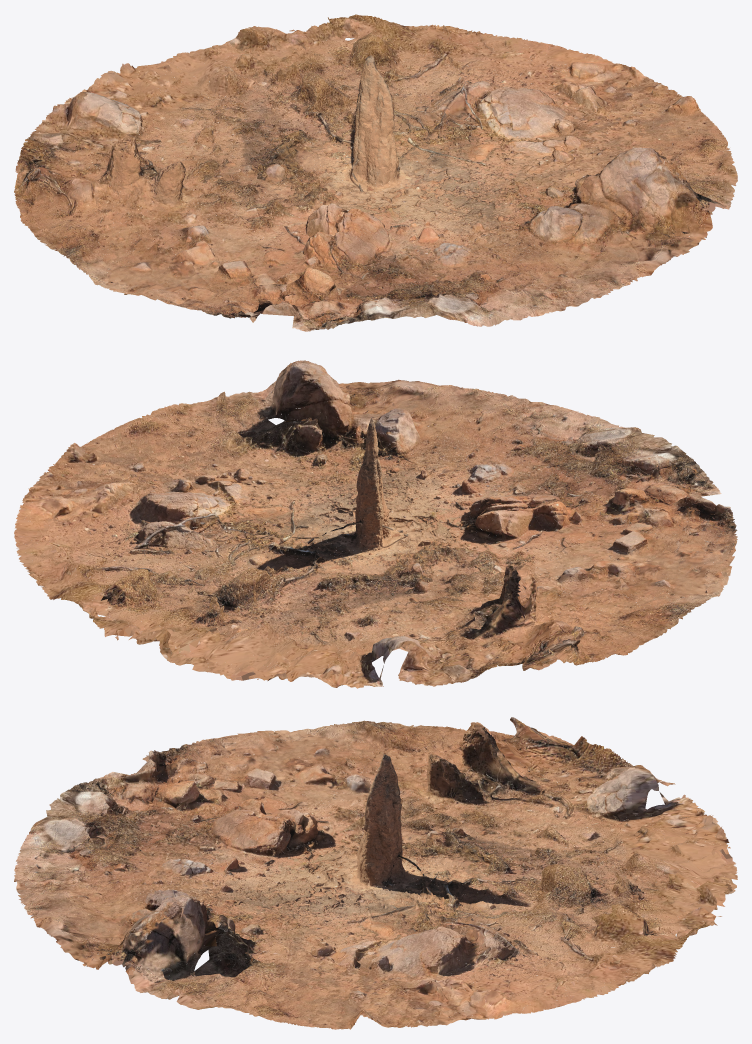
The model's file is mounds.glb.
The picture shows the model from 3 angles, top to bottom: view 1: azimuth 30°, elevation 25°; view 2: azimuth 150°, elevation 25°; view 3: azimuth 270°, elevation 25°; orthographic projection.
Parts seen in each view (by area): view 1: Stereo textured mesh_Material6_0, Stereo textured mesh_Material2_0, Stereo textured mesh_Material0_0, Stereo textured mesh_Material7_0, Stereo textured mesh_Material1_0, Stereo textured mesh_Material3_0, Stereo textured mesh_Material4_0, Stereo textured mesh_Material5_0; view 2: Stereo textured mesh_Material2_0, Stereo textured mesh_Material6_0, Stereo textured mesh_Material0_0, Stereo textured mesh_Material7_0, Stereo textured mesh_Material1_0, Stereo textured mesh_Material4_0, Stereo textured mesh_Material3_0, Stereo textured mesh_Material5_0; view 3: Stereo textured mesh_Material2_0, Stereo textured mesh_Material6_0, Stereo textured mesh_Material0_0, Stereo textured mesh_Material1_0, Stereo textured mesh_Material7_0, Stereo textured mesh_Material3_0, Stereo textured mesh_Material4_0, Stereo textured mesh_Material5_0.
Boxes of the visible parts, bbox=[...] form: Stereo textured mesh_Material6_0: bbox=[31, 27, 718, 328]; Stereo textured mesh_Material2_0: bbox=[14, 18, 737, 325]; Stereo textured mesh_Material0_0: bbox=[14, 25, 737, 329]; Stereo textured mesh_Material7_0: bbox=[26, 29, 721, 323]; Stereo textured mesh_Material1_0: bbox=[16, 15, 737, 329]; Stereo textured mesh_Material3_0: bbox=[14, 14, 730, 320]; Stereo textured mesh_Material4_0: bbox=[17, 40, 729, 331]; Stereo textured mesh_Material5_0: bbox=[19, 25, 737, 324]; Stereo textured mesh_Material2_0: bbox=[18, 360, 729, 687]; Stereo textured mesh_Material6_0: bbox=[31, 360, 720, 677]; Stereo textured mesh_Material0_0: bbox=[14, 362, 730, 686]; Stereo textured mesh_Material7_0: bbox=[29, 391, 728, 679]; Stereo textured mesh_Material1_0: bbox=[14, 361, 730, 680]; Stereo textured mesh_Material4_0: bbox=[46, 363, 737, 682]; Stereo textured mesh_Material3_0: bbox=[26, 361, 717, 688]; Stereo textured mesh_Material5_0: bbox=[40, 373, 724, 678]; Stereo textured mesh_Material2_0: bbox=[48, 718, 736, 1029]; Stereo textured mesh_Material6_0: bbox=[21, 723, 730, 1027]; Stereo textured mesh_Material0_0: bbox=[14, 717, 735, 1027]; Stereo textured mesh_Material1_0: bbox=[14, 717, 721, 1024]; Stereo textured mesh_Material7_0: bbox=[20, 722, 733, 1027]; Stereo textured mesh_Material3_0: bbox=[47, 729, 737, 1027]; Stereo textured mesh_Material4_0: bbox=[52, 726, 698, 1025]; Stereo textured mesh_Material5_0: bbox=[19, 722, 725, 1027].
Size of the model in its own units: 8.49 by 1.67 by 8.42.
8 materials, 8 textured.
